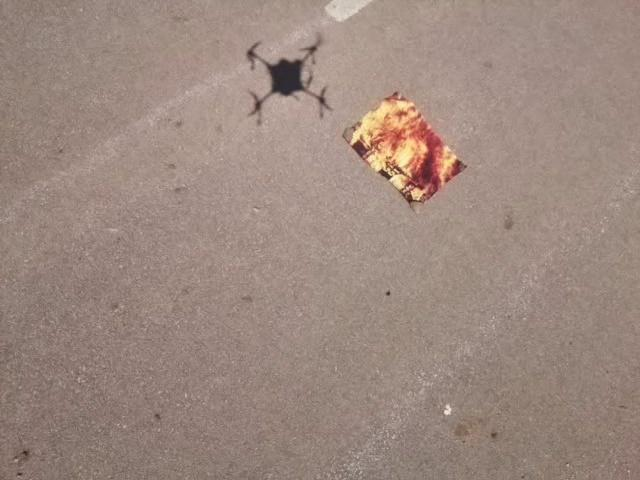fire-poster: (342, 89, 468, 212)
